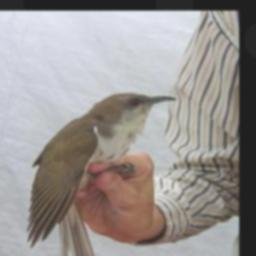Cuckoo: (29, 90, 179, 256)
